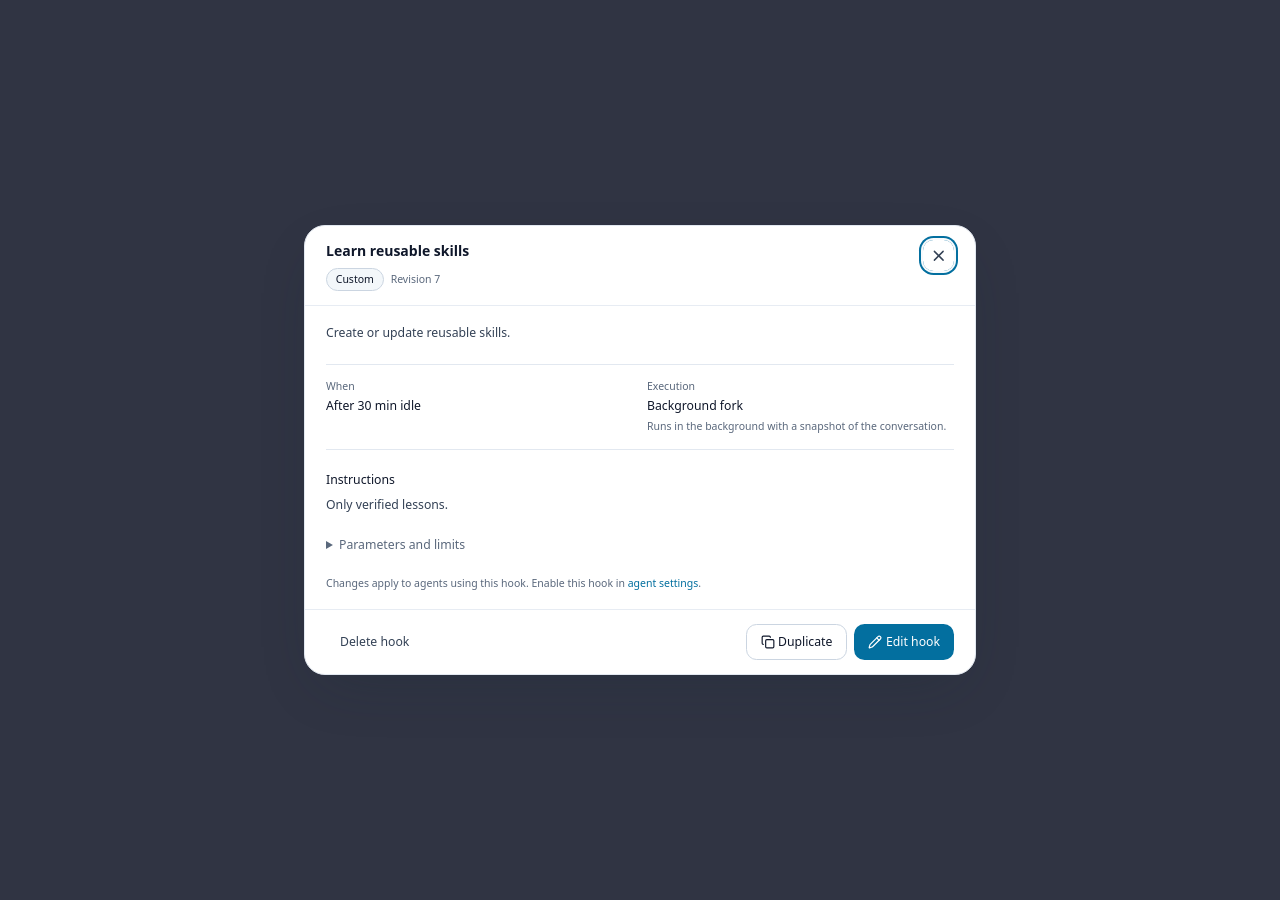
Test case: Hook detail sheet › keeps user input and expected revision after a rejected update
Step 1. Click the button "Edit hook" → (904, 642), box x1=854 y1=624 x2=954 y2=660
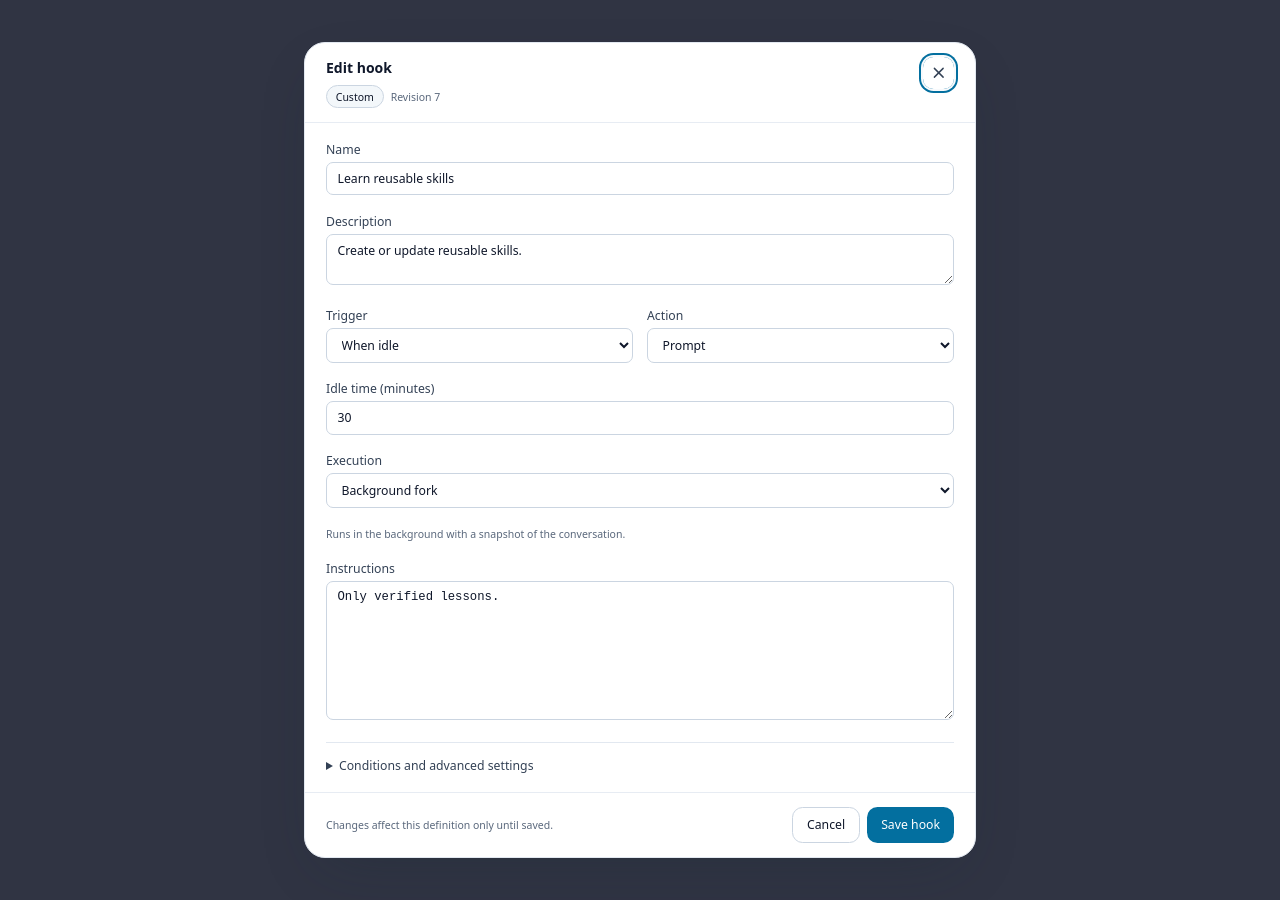
Step 2. Replace the text in the text box labelled "Instructions" with "My unsaved instructions" → (640, 651), box x1=326 y1=581 x2=954 y2=720
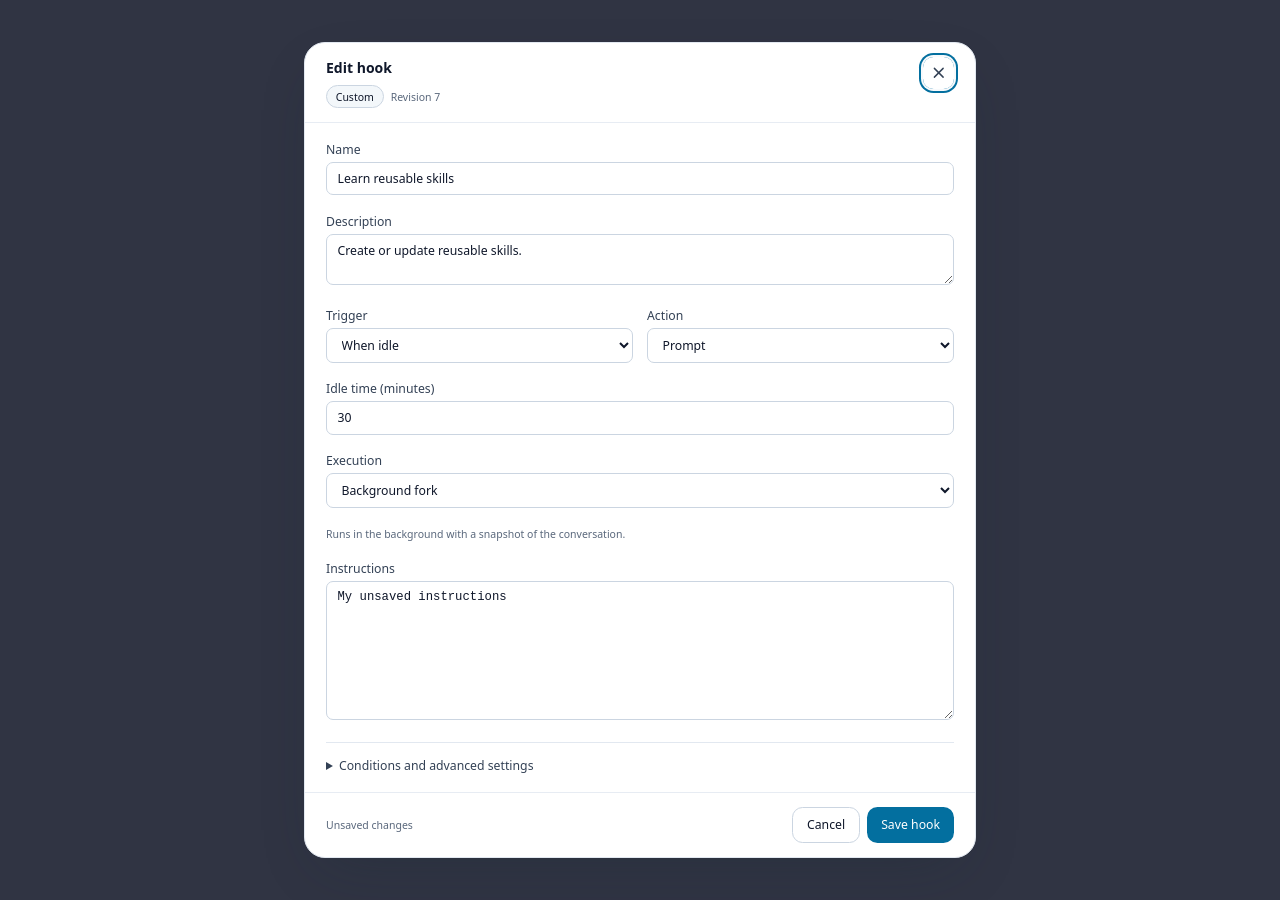
Step 3. Submit the form with id "hook-editor-form", box x1=326 y1=141 x2=954 y2=774
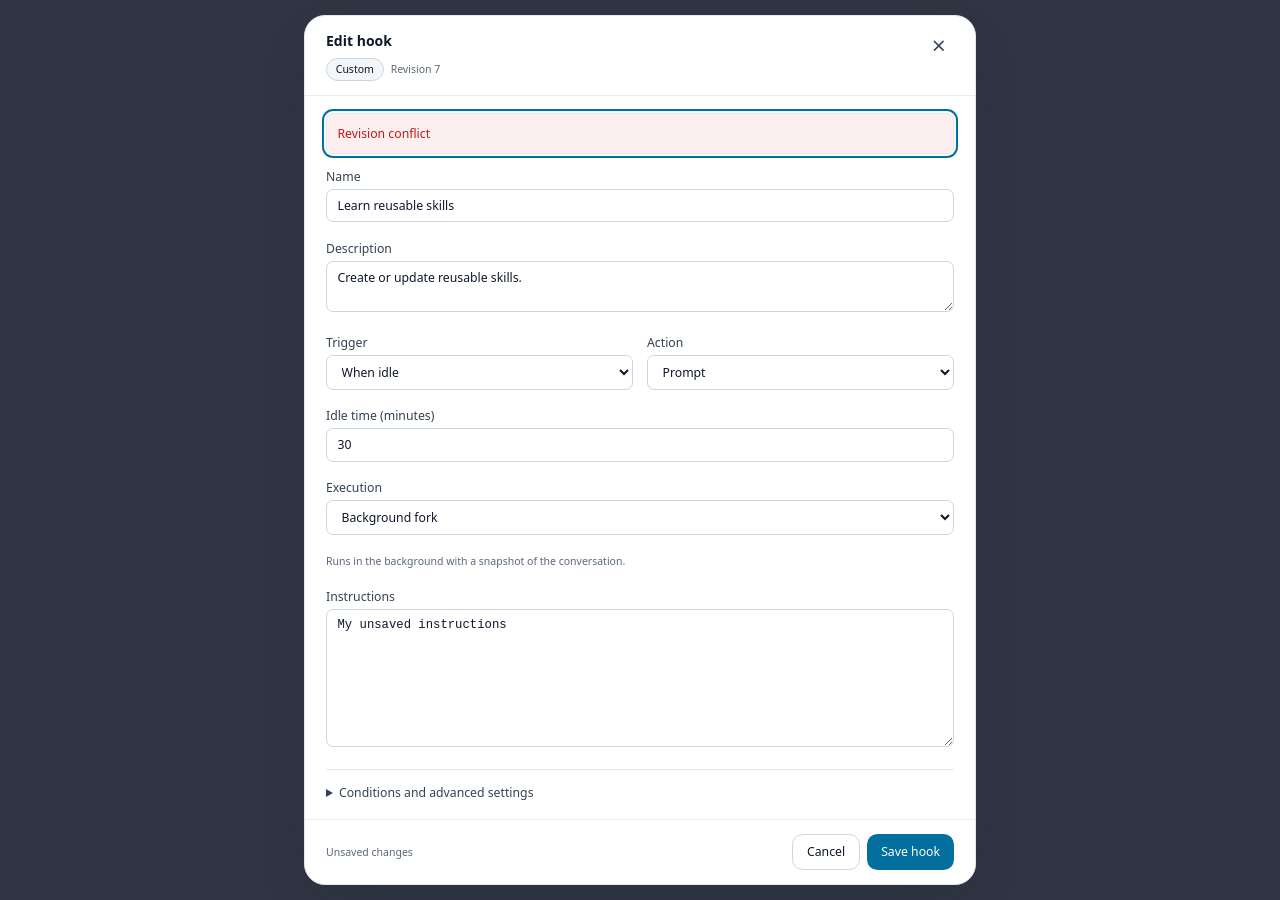
Now the message reads "Revision conflict", box x1=338 y1=125 x2=430 y2=142
